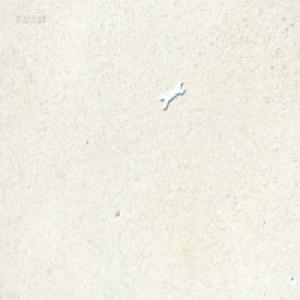Wrench: (162, 83, 185, 112)
